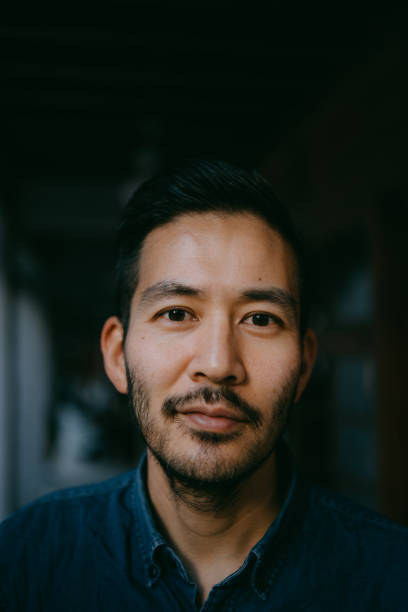person: (99, 156, 318, 499)
